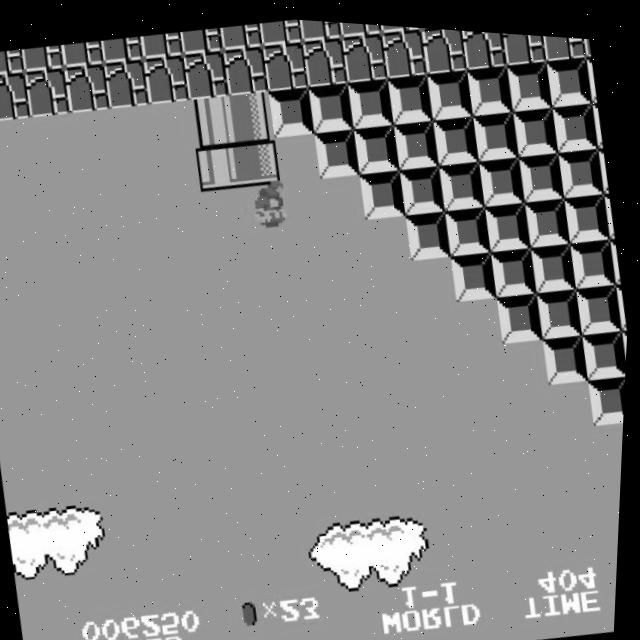11- little_mario: (242, 173, 295, 231)
14- pipe: (188, 91, 238, 145), (227, 86, 277, 140)
15- pipe_head: (194, 135, 244, 190), (234, 131, 283, 185)
17- undestructible_block: (62, 59, 112, 114), (380, 20, 430, 75), (23, 64, 73, 118), (102, 55, 152, 109), (142, 50, 192, 104), (181, 45, 231, 99), (221, 40, 271, 94), (260, 35, 310, 89), (300, 30, 350, 84), (340, 25, 390, 79), (418, 22, 468, 70), (459, 24, 508, 65), (0, 69, 33, 123), (498, 26, 547, 60), (21, 42, 66, 74), (60, 37, 105, 69), (100, 32, 145, 64), (139, 27, 184, 59), (179, 22, 224, 54), (219, 17, 264, 49), (258, 14, 303, 44), (538, 28, 587, 55), (297, 16, 342, 39), (0, 47, 25, 78), (338, 18, 382, 34), (377, 20, 421, 29), (577, 30, 591, 48)
9- hard_block: (353, 116, 403, 171), (405, 202, 455, 257), (392, 111, 442, 166), (432, 106, 482, 161), (497, 283, 547, 338), (484, 192, 534, 247), (465, 56, 515, 111), (536, 278, 586, 333), (505, 51, 555, 106), (563, 182, 613, 237), (267, 81, 317, 135), (313, 121, 363, 175), (359, 162, 409, 216), (346, 71, 396, 125), (398, 157, 448, 211), (386, 66, 436, 120), (438, 152, 488, 206), (425, 61, 475, 115), (478, 147, 528, 201), (543, 324, 593, 378), (511, 97, 561, 151), (576, 274, 626, 328), (445, 197, 494, 252), (472, 101, 521, 156), (524, 187, 573, 242), (545, 46, 594, 101), (451, 244, 501, 297), (491, 239, 541, 292), (530, 234, 580, 287), (570, 229, 620, 282), (557, 138, 607, 191), (307, 76, 356, 130), (551, 92, 600, 146), (582, 318, 630, 373), (518, 143, 567, 196), (589, 365, 628, 418), (616, 275, 631, 321), (610, 230, 625, 276), (597, 139, 612, 185), (584, 48, 599, 94), (604, 184, 618, 231), (591, 93, 605, 139), (622, 319, 630, 366)
